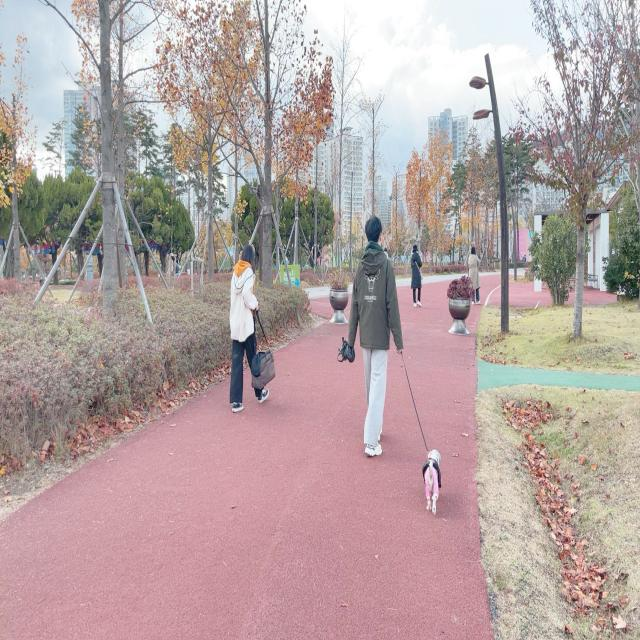Leashed_Dog: (364, 334, 442, 516)
